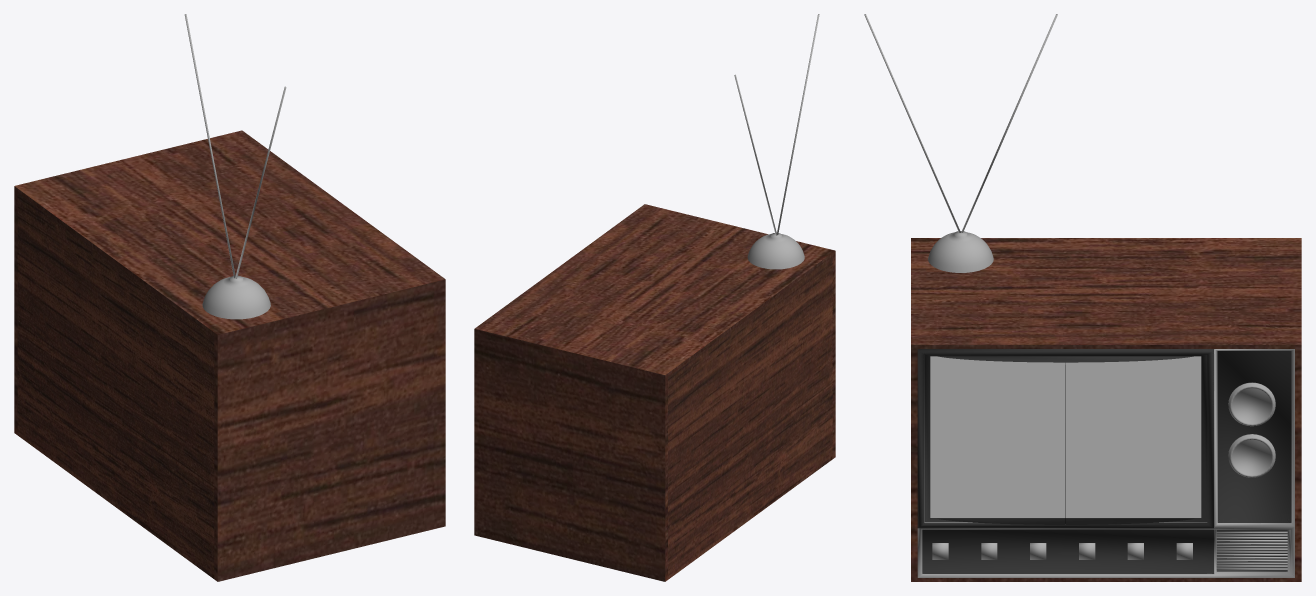
3 renders of one model, left to right at view 1: azimuth 30°, elevation 25°; view 2: azimuth 150°, elevation 25°; view 3: azimuth 270°, elevation 25°, orthographic. The views are drawn at different scales.
Visible parts, largest first — view 1: Box, Antena; view 2: Box, Antena; view 3: Antena, Box, Screen.
Part boxes in pixels (x1,y1,x2,y2): Box: (14, 130, 445, 581); Antena: (184, 14, 286, 319); Box: (474, 204, 835, 581); Antena: (734, 14, 819, 269); Antena: (864, 14, 1294, 577); Box: (911, 238, 1301, 581); Screen: (930, 356, 1201, 517).
Bounding box in the file's own units: 0.6766 × 1.35 × 1.11.
2 materials, 2 textured.
